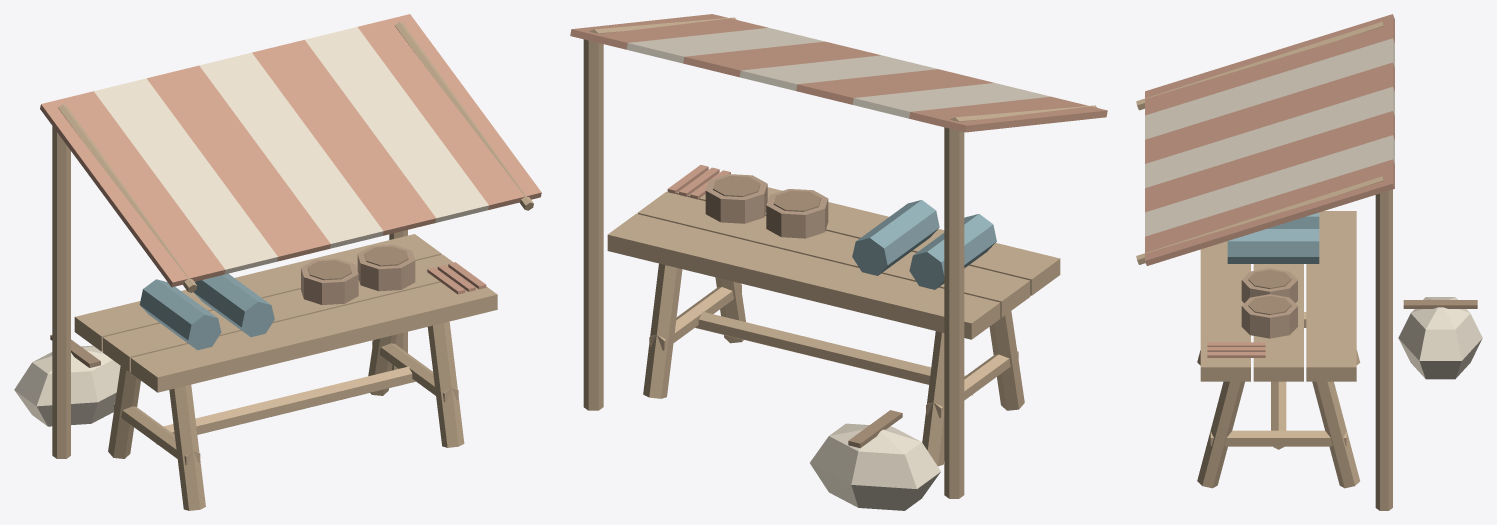
The model's file is stall-pedlar.glb.
3 renders of one model, left to right at view 1: azimuth 30°, elevation 25°; view 2: azimuth 150°, elevation 25°; view 3: azimuth 270°, elevation 25°, orthographic. The views are drawn at different scales.
Parts seen in each view (by area): view 1: stall-pedlar_wood, stall-pedlar_awning-a, stall-pedlar_awning-b, stall-pedlar_cloth, stall-pedlar_sack, stall-pedlar_pot, stall-pedlar_dark; view 2: stall-pedlar_wood, stall-pedlar_awning-a, stall-pedlar_awning-b, stall-pedlar_sack, stall-pedlar_cloth, stall-pedlar_pot, stall-pedlar_dark; view 3: stall-pedlar_wood, stall-pedlar_awning-a, stall-pedlar_awning-b, stall-pedlar_sack, stall-pedlar_cloth, stall-pedlar_pot, stall-pedlar_dark.
Part boxes in pixels (x1,y1,x2,y2): stall-pedlar_wood: (52, 22, 533, 510); stall-pedlar_awning-a: (40, 14, 541, 294); stall-pedlar_awning-b: (94, 27, 488, 274); stall-pedlar_cloth: (139, 273, 274, 350); stall-pedlar_sack: (14, 345, 120, 426); stall-pedlar_pot: (301, 245, 415, 304); stall-pedlar_dark: (50, 246, 408, 367); stall-pedlar_wood: (583, 17, 1097, 498); stall-pedlar_awning-a: (570, 14, 1107, 199); stall-pedlar_awning-b: (626, 27, 1050, 118); stall-pedlar_sack: (810, 423, 940, 510); stall-pedlar_cloth: (852, 200, 996, 289); stall-pedlar_pot: (705, 174, 828, 238); stall-pedlar_dark: (713, 176, 902, 448); stall-pedlar_wood: (1136, 21, 1392, 510); stall-pedlar_awning-a: (1145, 14, 1394, 357); stall-pedlar_awning-b: (1145, 38, 1394, 236); stall-pedlar_sack: (1398, 297, 1482, 379); stall-pedlar_cloth: (1227, 212, 1319, 263); stall-pedlar_pot: (1241, 268, 1297, 338); stall-pedlar_dark: (1248, 270, 1477, 314).
Size of the model in its own units: 0.76 by 0.693 by 0.6567.
